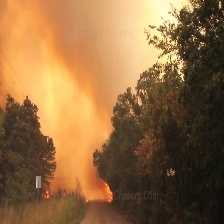fire: (143, 1, 191, 80), (100, 180, 114, 202), (40, 186, 51, 198)
